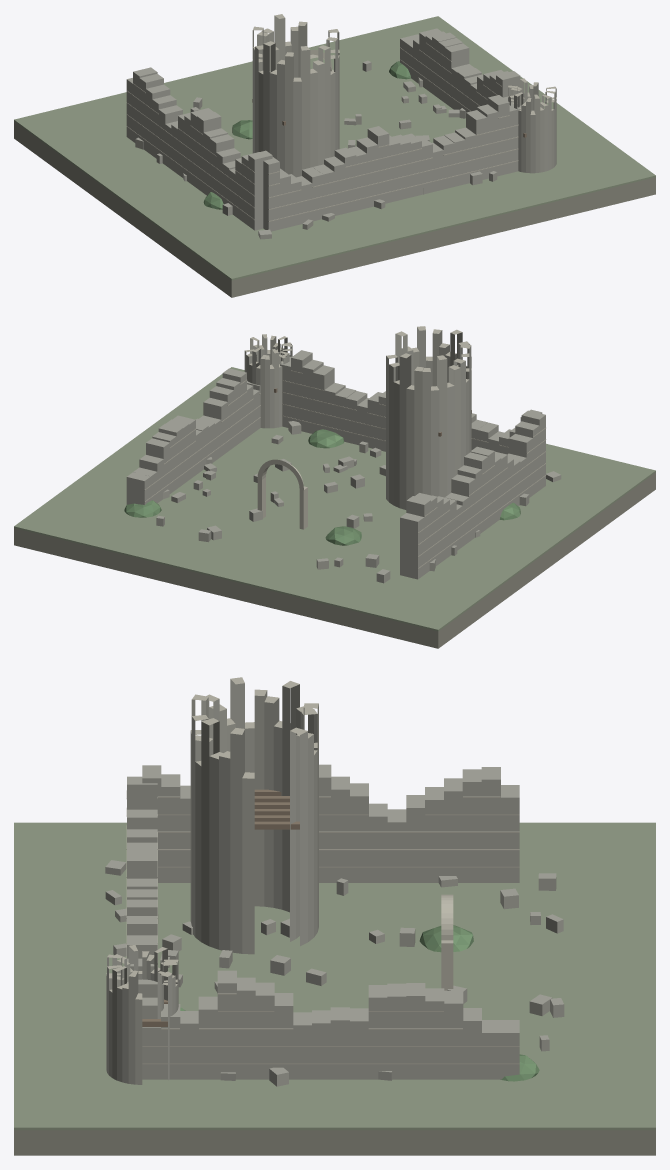
File: ruin-1.glb
3 views of the same model, one above another, from view 1: azimuth 30°, elevation 25°; view 2: azimuth 150°, elevation 25°; view 3: azimuth 270°, elevation 25° (orthographic). The views are drawn at different scales.
Visible parts, largest first — view 1: برج شکسته; view 2: برج شکسته; view 3: برج شکسته.
Part boxes in pixels (<box>): برج شکسته: <box>14,14,655,297</box>; برج شکسته: <box>14,326,655,648</box>; برج شکسته: <box>14,677,655,1155</box>.
Bounding box in the file's own units: 9 × 3.47 × 8.
